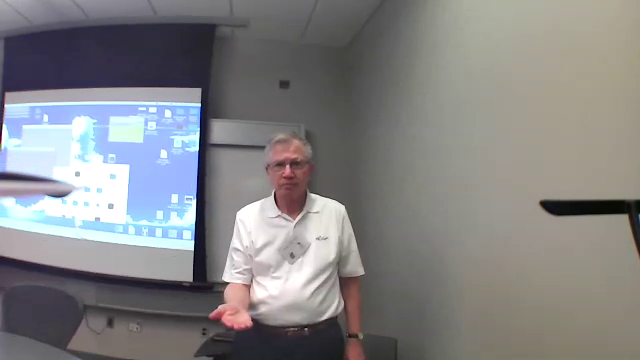land: (205, 299, 261, 332)
